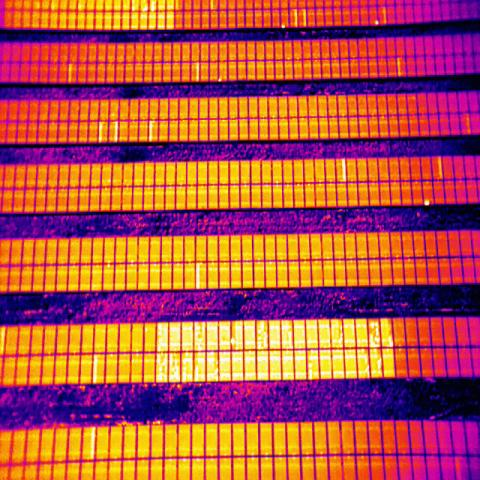fault: (168, 352, 182, 384), (168, 324, 182, 354), (231, 352, 245, 382), (258, 352, 272, 382), (218, 352, 231, 382), (194, 352, 207, 381), (182, 352, 194, 382), (283, 352, 295, 382), (88, 426, 98, 462), (156, 352, 168, 381), (207, 352, 219, 381), (246, 352, 256, 382), (182, 322, 192, 350), (195, 322, 205, 350), (158, 324, 168, 352), (271, 352, 281, 380), (236, 320, 243, 349), (92, 354, 98, 384), (368, 334, 380, 348), (437, 157, 443, 180), (358, 367, 371, 376), (294, 371, 308, 379), (466, 113, 471, 135), (257, 340, 268, 350), (308, 362, 314, 380), (301, 8, 306, 28), (332, 370, 346, 377), (257, 322, 265, 334), (294, 9, 299, 28), (294, 323, 304, 332), (320, 338, 330, 347), (270, 340, 280, 349), (295, 340, 305, 349), (397, 57, 402, 75), (149, 120, 153, 142), (342, 159, 346, 181), (320, 369, 331, 377), (332, 323, 342, 331), (358, 338, 368, 346), (245, 340, 255, 348), (196, 263, 199, 289), (346, 369, 357, 376), (114, 122, 118, 141), (284, 323, 292, 332), (376, 358, 382, 370), (220, 324, 230, 331), (1, 328, 6, 342), (296, 355, 306, 362), (68, 64, 72, 81), (270, 326, 281, 332), (288, 333, 292, 349), (306, 324, 316, 330), (344, 324, 354, 330), (245, 325, 255, 331), (207, 326, 217, 332), (258, 335, 268, 341), (388, 336, 394, 346), (383, 353, 393, 359), (333, 355, 343, 361), (345, 355, 355, 361), (186, 190, 197, 195), (319, 324, 330, 329), (307, 339, 318, 344), (331, 339, 342, 344), (344, 339, 355, 344), (219, 341, 230, 346), (320, 355, 331, 360), (384, 7, 387, 24), (150, 283, 160, 288), (283, 338, 288, 348), (207, 341, 217, 346), (358, 354, 368, 359), (151, 1, 156, 11), (230, 337, 236, 345), (344, 350, 356, 354), (319, 350, 331, 354), (210, 0, 215, 9), (332, 350, 343, 354), (158, 15, 165, 21), (362, 323, 368, 330), (140, 14, 148, 19), (148, 14, 156, 19), (158, 24, 166, 29), (92, 270, 102, 274), (91, 283, 99, 288), (375, 326, 379, 336), (338, 332, 343, 340), (370, 354, 378, 359), (309, 355, 317, 360), (196, 61, 198, 80), (209, 267, 218, 271), (314, 330, 318, 339), (374, 337, 380, 343), (423, 200, 430, 205), (140, 24, 147, 29), (148, 25, 155, 30), (121, 25, 129, 29), (381, 324, 389, 328), (372, 369, 376, 377), (231, 267, 241, 270), (150, 270, 160, 273), (303, 329, 306, 339), (143, 6, 148, 12), (131, 16, 138, 20), (167, 24, 174, 28), (221, 267, 228, 271), (370, 322, 374, 329), (51, 4, 55, 11), (114, 6, 121, 10), (244, 280, 253, 283), (105, 24, 110, 29), (309, 350, 314, 355), (114, 16, 120, 20), (356, 323, 360, 329), (0, 346, 4, 352), (208, 348, 214, 352), (358, 348, 364, 352), (387, 369, 391, 375), (106, 6, 112, 10), (123, 5, 130, 8), (168, 14, 173, 18), (113, 24, 117, 29), (132, 25, 137, 29), (374, 322, 378, 327), (144, 327, 148, 332), (386, 348, 390, 353), (302, 350, 306, 355), (364, 359, 368, 364), (378, 370, 382, 375), (132, 6, 136, 11), (106, 15, 112, 18), (254, 280, 260, 283), (159, 5, 165, 8), (167, 5, 173, 8), (287, 184, 291, 188), (232, 184, 236, 188), (224, 190, 228, 194), (150, 240, 154, 244), (281, 24, 285, 28), (314, 260, 318, 264), (222, 262, 226, 266), (383, 370, 387, 374), (278, 452, 282, 456), (347, 456, 351, 460), (320, 456, 324, 460), (360, 456, 364, 460), (196, 458, 200, 462), (78, 4, 82, 8), (99, 126, 102, 131), (319, 332, 321, 339), (381, 115, 384, 119), (99, 137, 102, 141), (414, 182, 418, 185), (122, 269, 125, 273), (340, 344, 343, 348), (298, 351, 301, 355), (333, 456, 336, 460), (292, 458, 296, 461), (183, 460, 187, 463), (296, 57, 300, 60), (218, 78, 222, 81), (374, 348, 376, 353), (246, 257, 249, 260), (303, 262, 306, 265), (324, 347, 327, 350), (272, 115, 276, 117), (221, 120, 225, 122), (179, 184, 183, 186), (212, 184, 214, 188), (168, 186, 172, 188), (376, 21, 378, 25), (326, 257, 330, 259), (235, 258, 237, 262), (339, 260, 341, 264), (176, 264, 180, 266), (130, 264, 134, 266), (108, 264, 110, 268), (328, 344, 330, 348), (136, 348, 138, 352), (370, 348, 372, 352), (136, 354, 138, 358), (303, 362, 305, 366), (320, 362, 322, 366), (252, 452, 254, 456), (307, 456, 309, 460), (302, 117, 304, 120), (276, 181, 278, 184), (426, 181, 428, 184), (243, 184, 246, 186), (108, 259, 110, 262), (131, 260, 134, 262), (212, 262, 214, 265), (270, 262, 272, 265), (246, 262, 249, 264), (332, 345, 334, 348), (111, 355, 113, 358), (210, 447, 212, 450), (266, 453, 269, 455), (210, 454, 213, 456), (252, 458, 255, 460), (279, 458, 282, 460), (342, 114, 344, 116), (282, 119, 284, 121), (108, 180, 110, 182), (308, 184, 310, 186), (266, 184, 268, 186), (258, 258, 260, 260), (200, 262, 202, 264), (236, 262, 238, 264), (258, 262, 260, 264), (266, 458, 268, 460), (211, 458, 213, 460), (170, 460, 172, 462), (288, 58, 290, 60), (319, 184, 320, 186), (154, 264, 155, 266)
